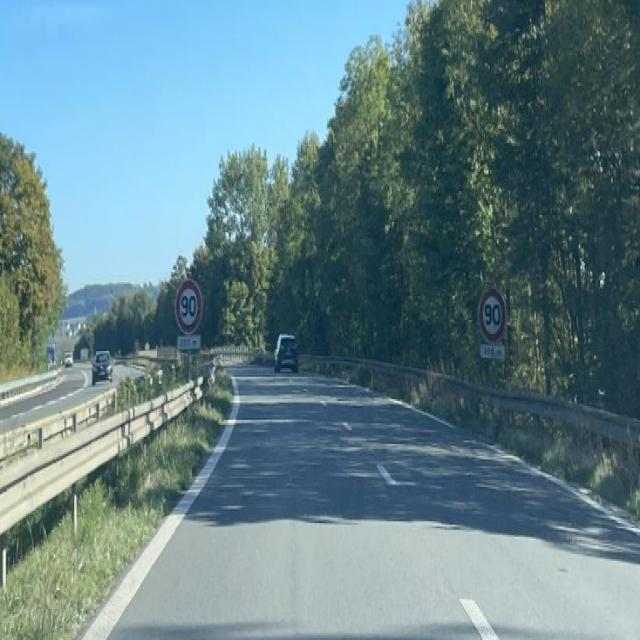speed_90: (479, 289, 506, 342), (176, 279, 202, 334)
